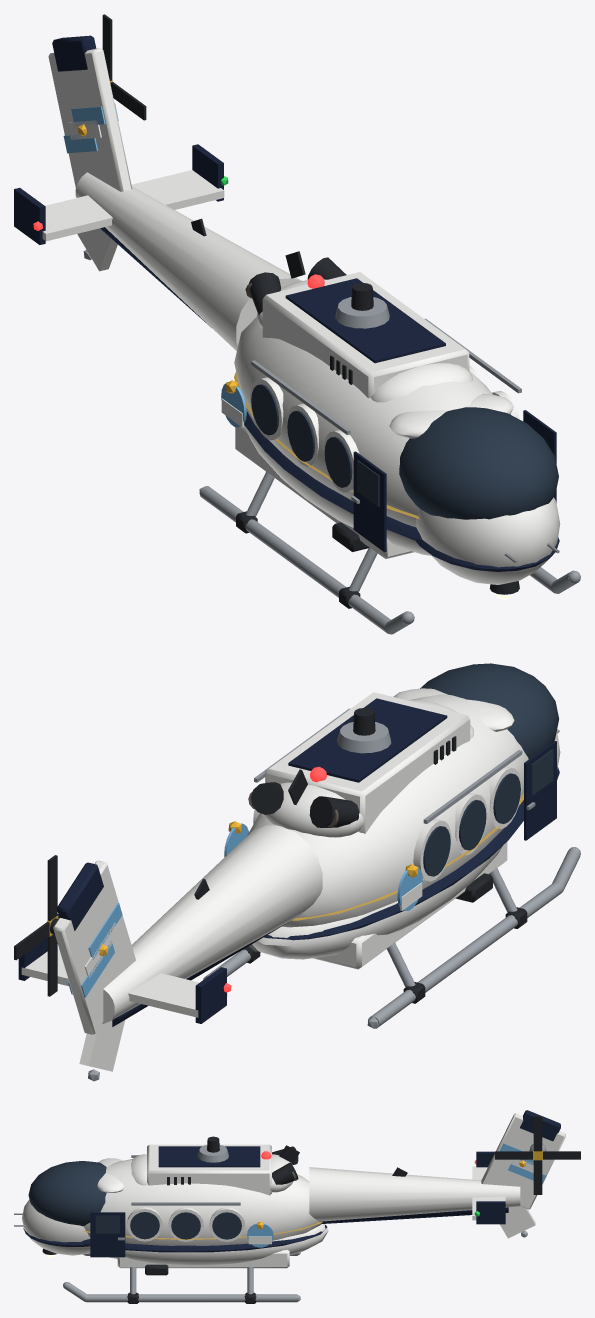
The model's file is helicopter.fbx.
3 views of the same model, one above another, from view 1: azimuth 30°, elevation 25°; view 2: azimuth 150°, elevation 25°; view 3: azimuth 270°, elevation 25° (orthographic). The views are drawn at different scales.
Parts seen in each view (by area): view 1: helicopter.002; view 2: helicopter.002; view 3: helicopter.002.
Boxes of the visible parts, x1,y1,x2,y2 form: helicopter.002: (14, 14, 580, 634); helicopter.002: (14, 663, 580, 1081); helicopter.002: (14, 1110, 580, 1303).
Bounding box in the file's own units: 3.26 × 4.83 × 14.5.
